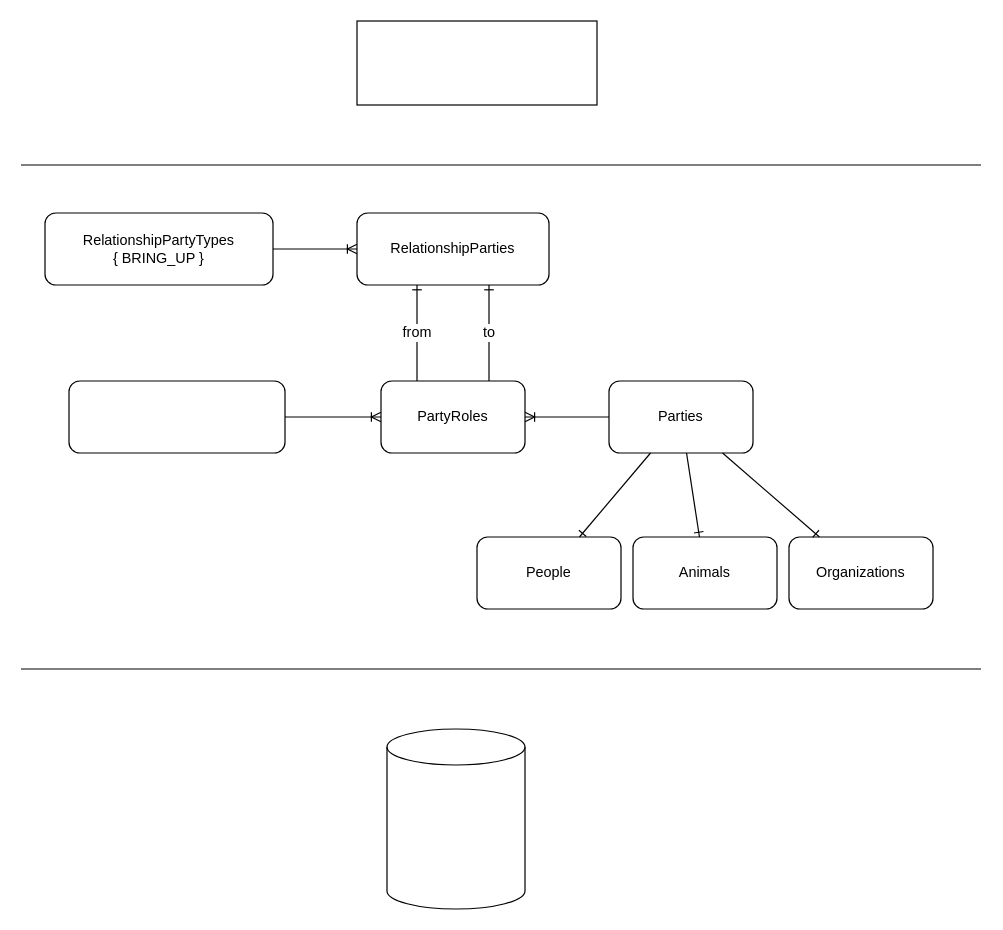
Image size: 1003x930. Some labels were removed from this diagram. The shapes that lost their labels are listed below. From the top down, each one's box as (x1, y1, x2, y2) in pixels, then its label:
(356, 20, 597, 105): PartiesService
(68, 380, 285, 453): PartyRoleTypes { PET, ZOO }
(386, 728, 525, 909): parties_db
